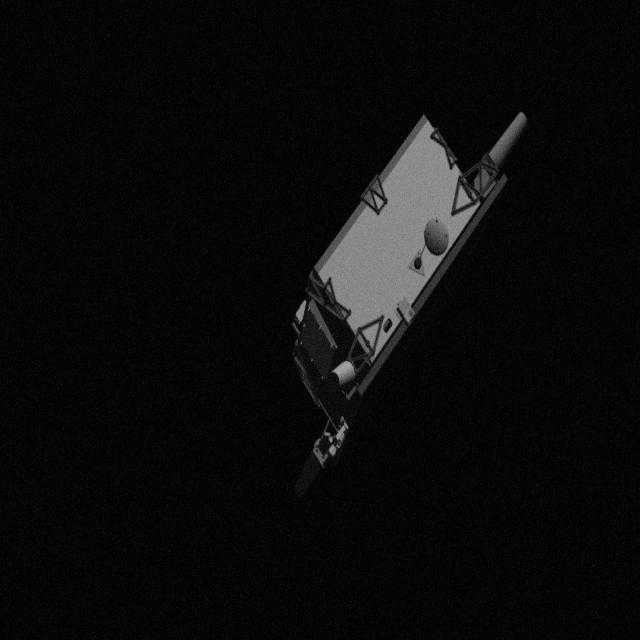satellite: (282, 104, 536, 512)
